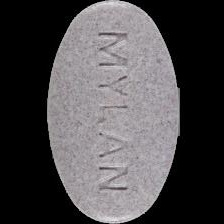76237-259: (0, 0, 224, 224)
